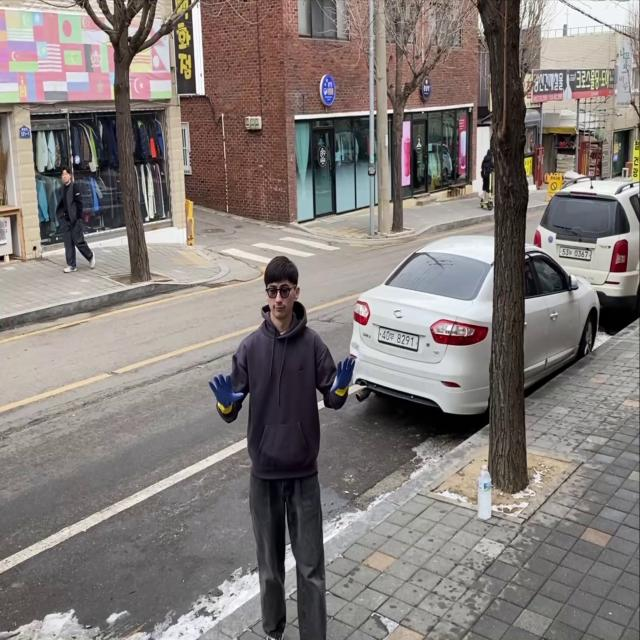gloved_hand: (323, 352, 359, 397), (207, 369, 245, 409)
